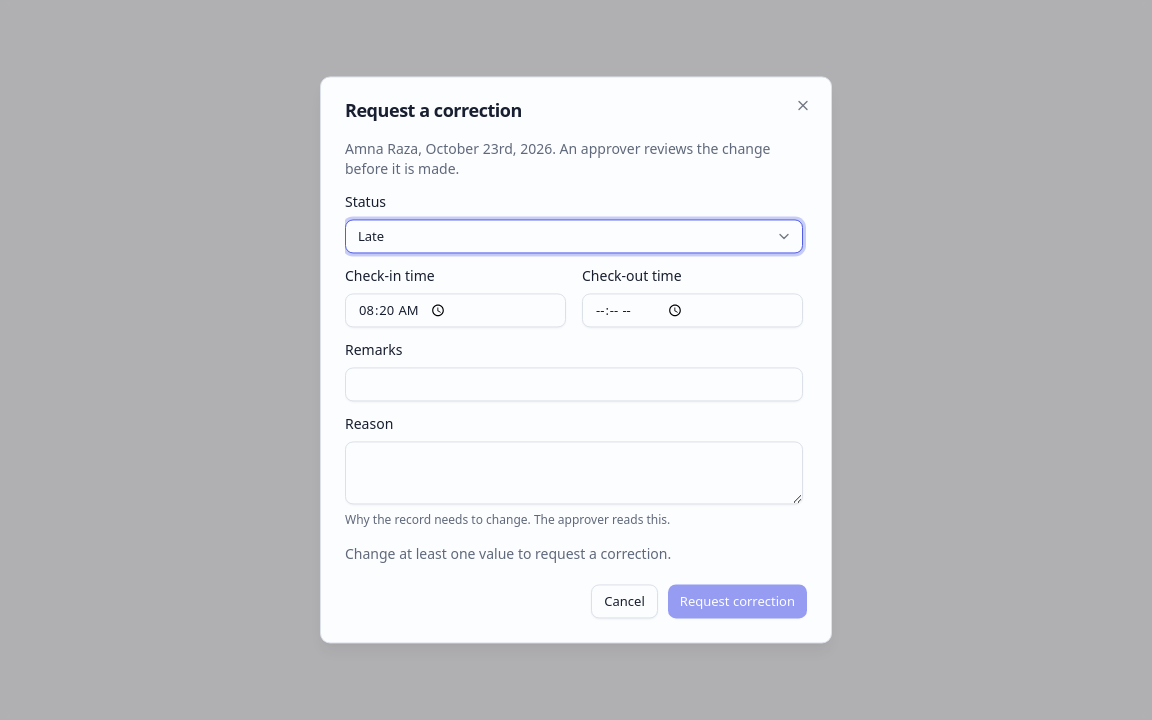
Test: RequestCorrectionDialog › shows a server refusal under the field it names
The image size is (1152, 720).
Click the dropdown named "Status" at (371, 236), box left=345, top=219, right=803, bottom=253
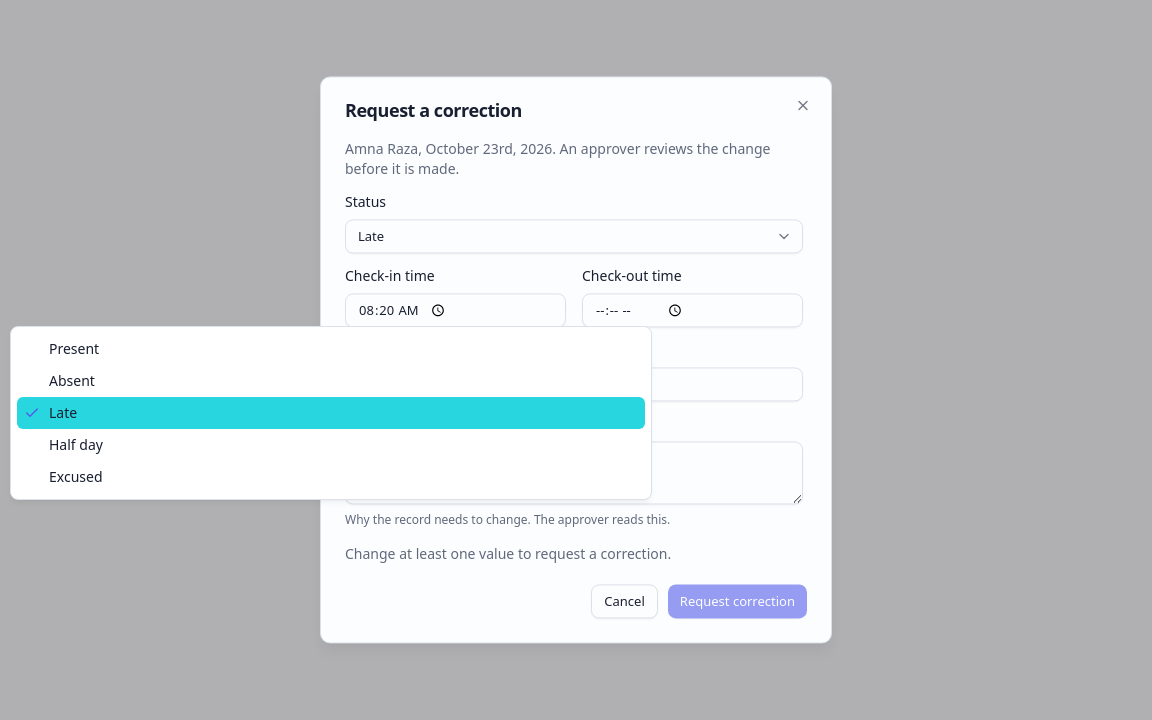
Click the option "Absent" at (72, 380), box left=49, top=371, right=95, bottom=390
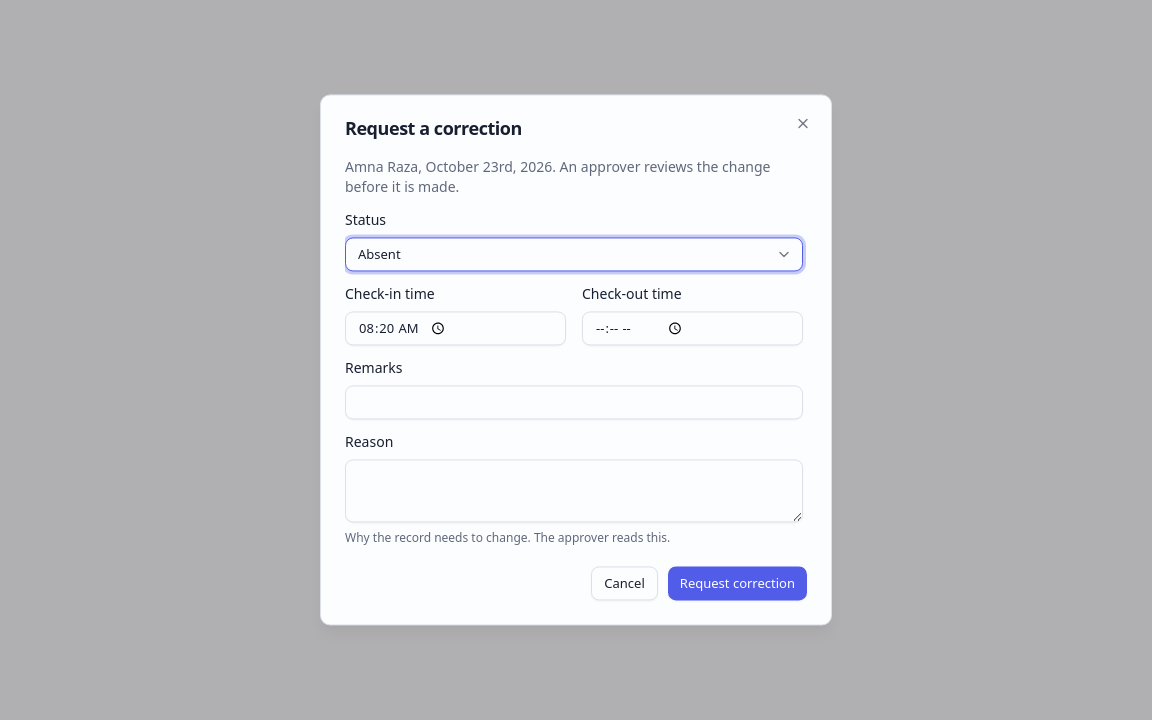
Type "Was absent" into the text box labelled "Reason" at (574, 491), box left=345, top=459, right=803, bottom=522
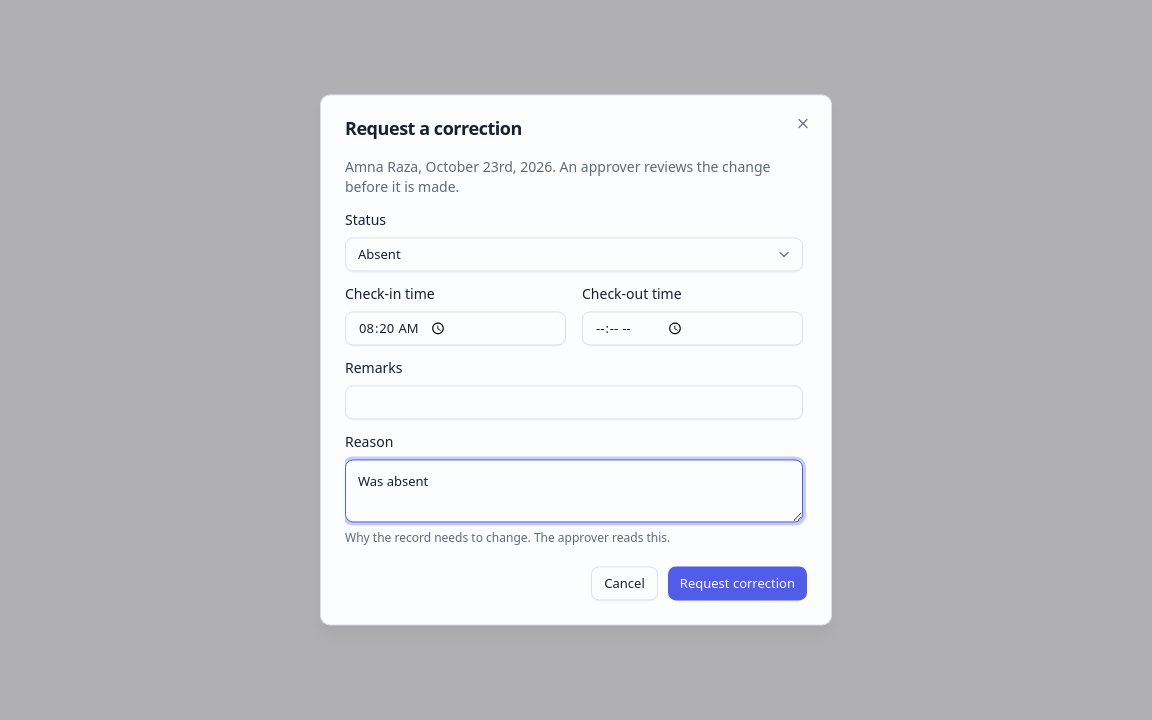
Click the button "Request correction" at (737, 584), box left=668, top=567, right=807, bottom=601
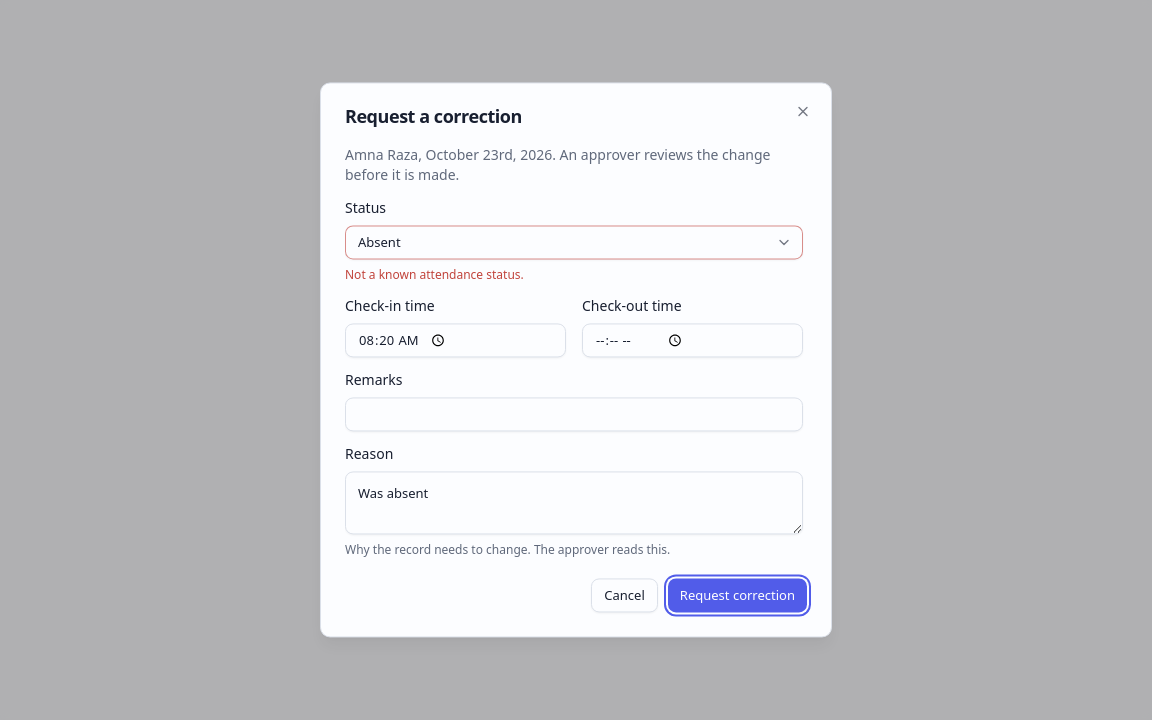
Expected: the text "Not a known attendance status." is shown once, left=345, top=266, right=524, bottom=283
